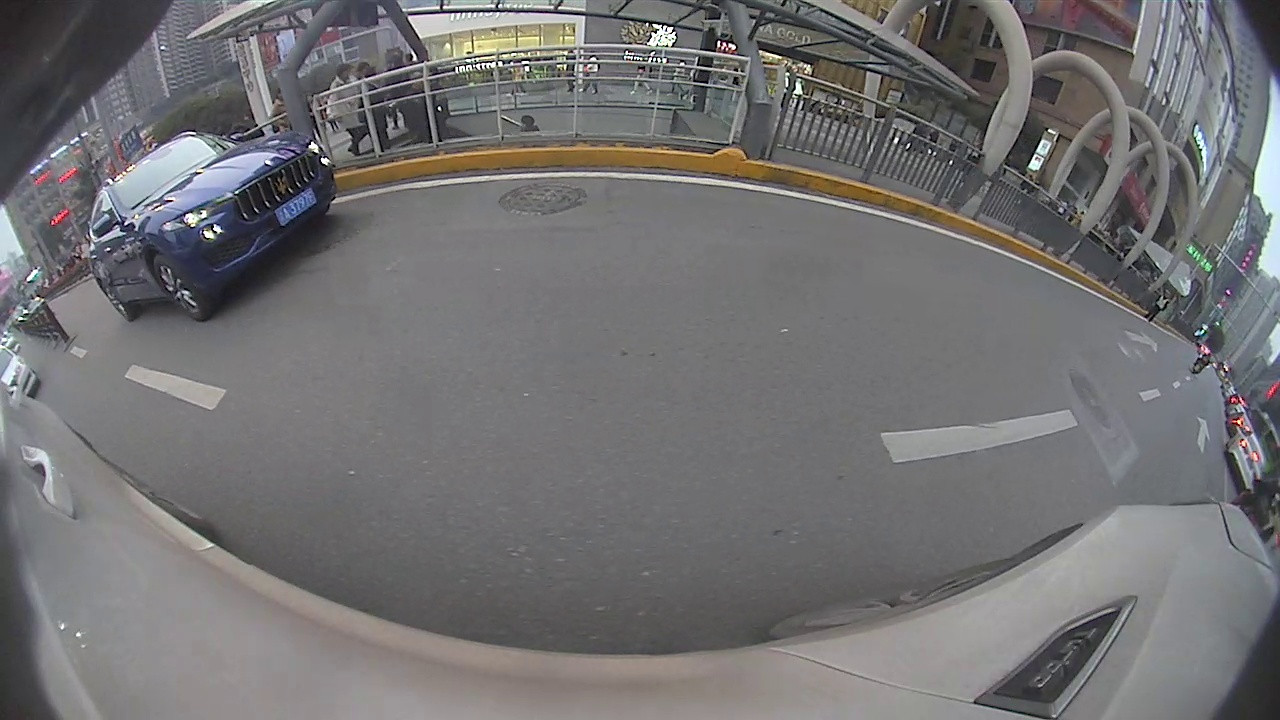car: (88, 130, 337, 325), (1222, 427, 1268, 495)
front: (148, 254, 209, 323)
person: (322, 64, 372, 157)
rear: (98, 278, 132, 322)
